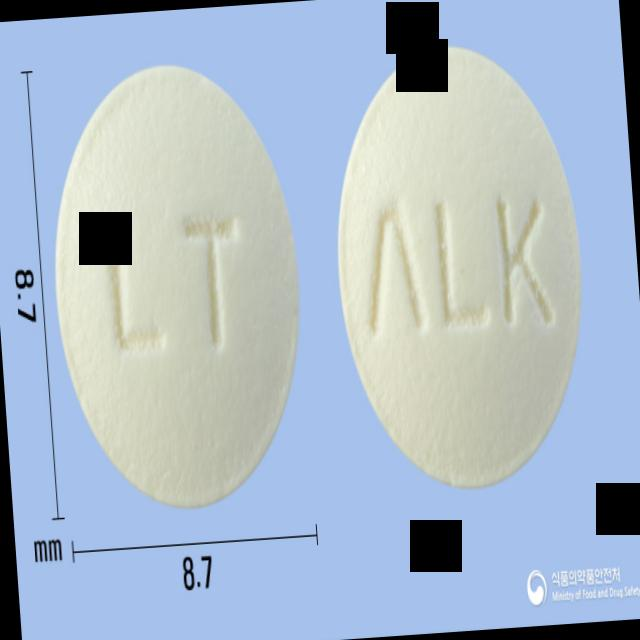Levotam: (42, 53, 315, 520), (322, 33, 597, 496)
